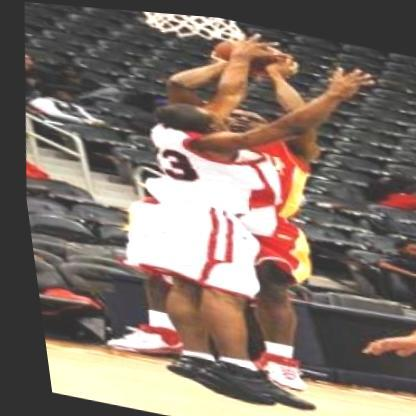basketball: (208, 23, 302, 83)
